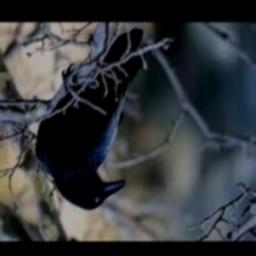Crow: (35, 27, 147, 211)
